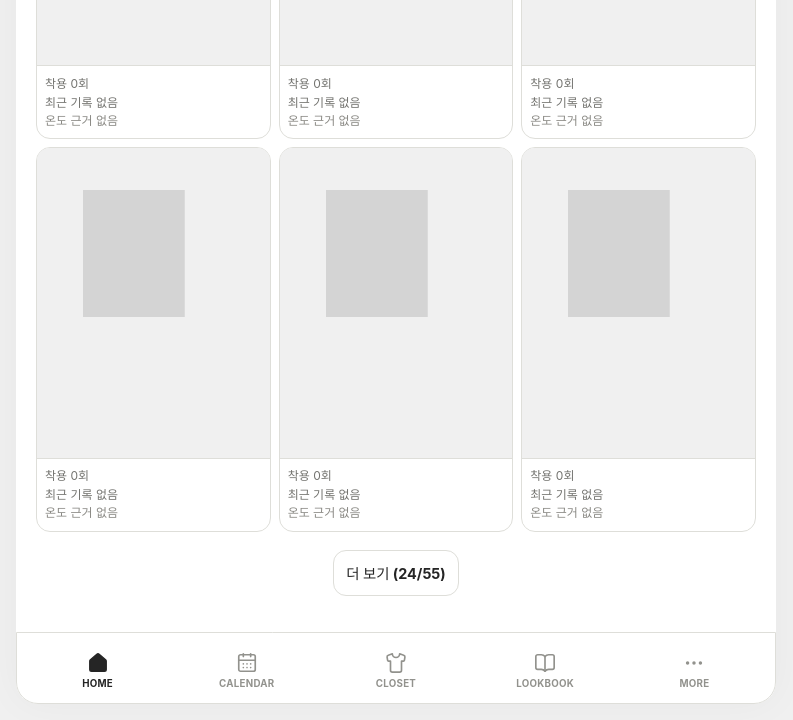
Scenario: Closet과 Lookbook 점진 표시 › Lookbook 착장을 24개씩 보여주고 카드의 레이어 이미지를 지연 로딩한다
(page scrolled)
Click the button "더 보기 (24/55)": (396, 572) [333, 550, 459, 596]
(page scrolled)
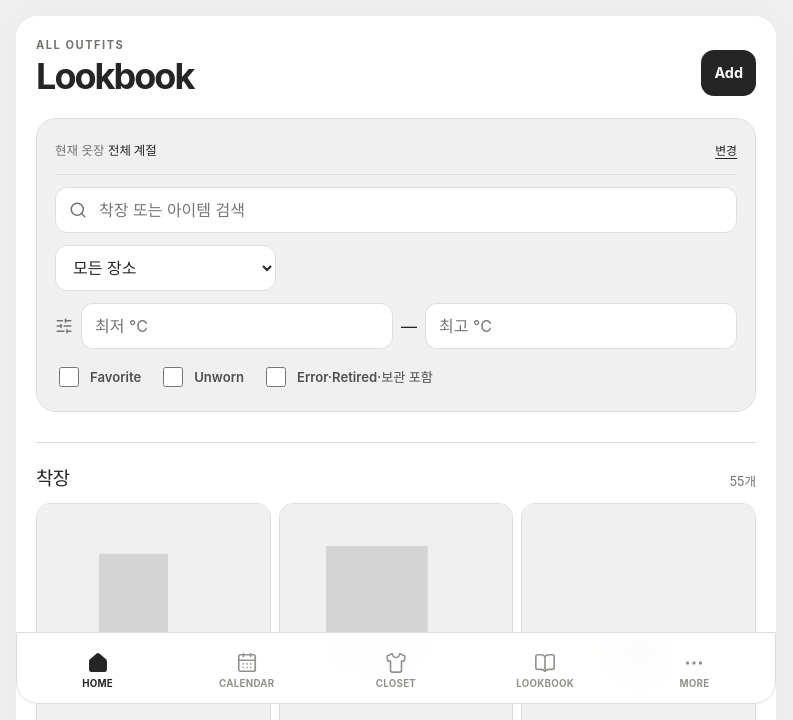
In the search field named "착장 검색": (396, 210) [55, 187, 737, 233], type "페이지네이션 착장"
(page scrolled)
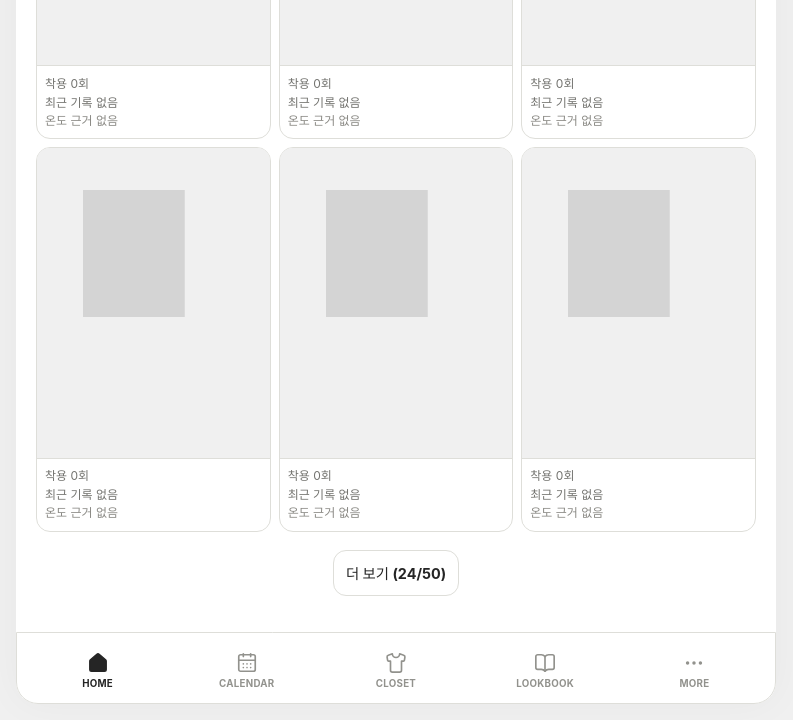
Now the button "더 보기 (24/50)" is shown, box [333, 550, 459, 596]
